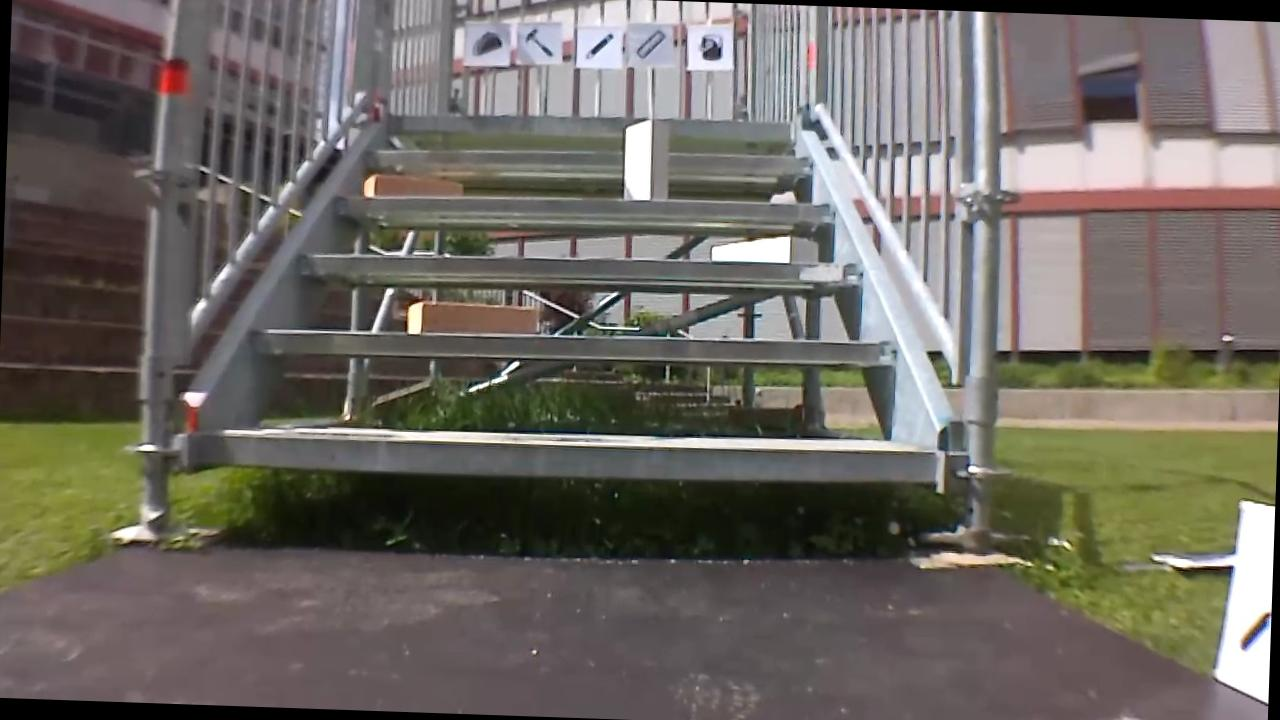brick: (406, 300, 535, 335), (622, 118, 671, 199), (712, 234, 816, 266), (362, 173, 460, 198)
bucket: (694, 30, 728, 63)
edge: (189, 426, 934, 489), (251, 320, 896, 370), (298, 244, 862, 290), (334, 186, 839, 226), (367, 141, 810, 176), (385, 109, 792, 141)
hammer: (519, 24, 556, 58)
pencil: (579, 28, 616, 62)
ruler: (630, 25, 668, 60)
steps: (178, 98, 960, 495)
taco: (468, 27, 505, 58)
